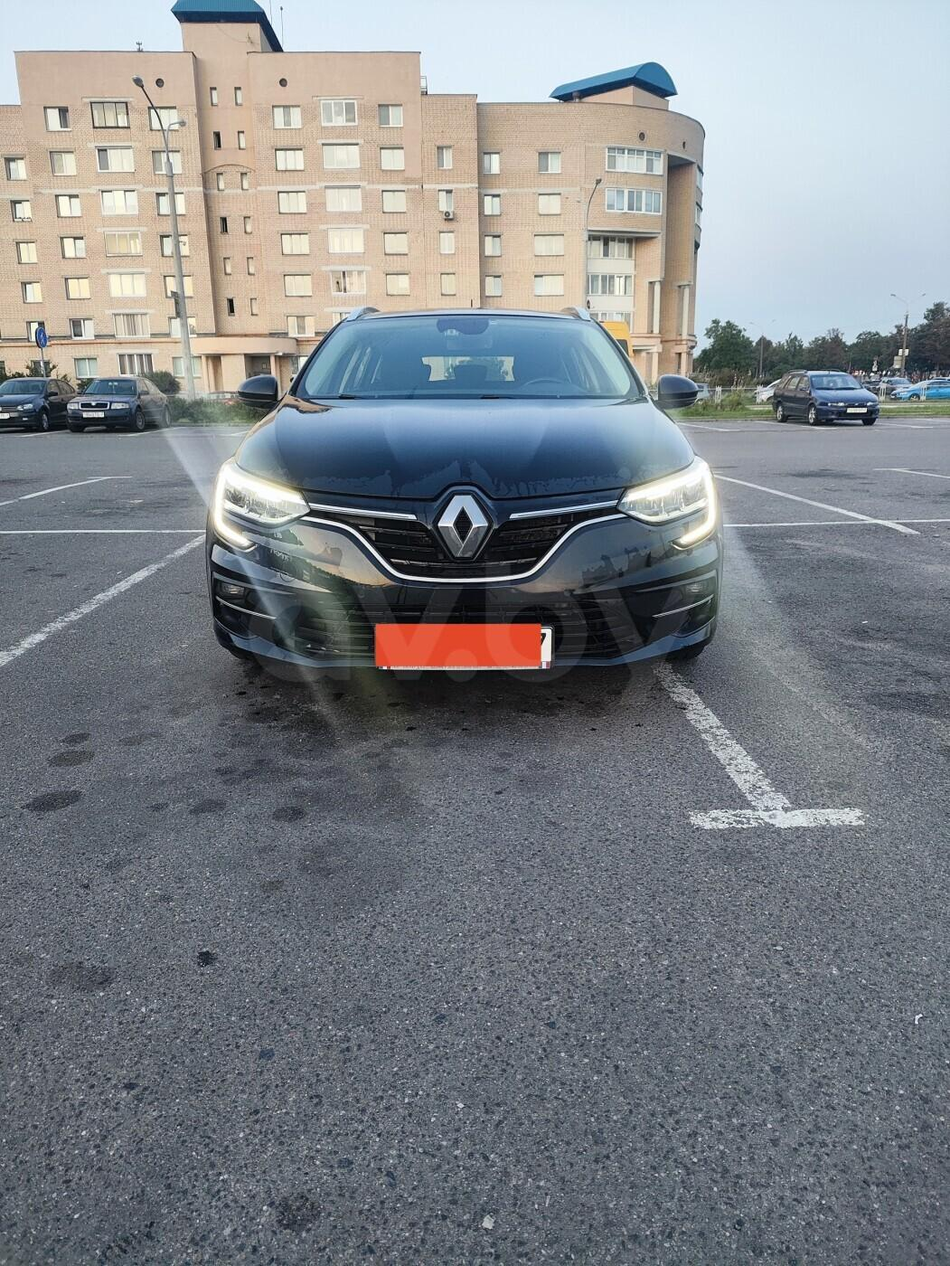Megane_2020: (197, 307, 756, 716)
